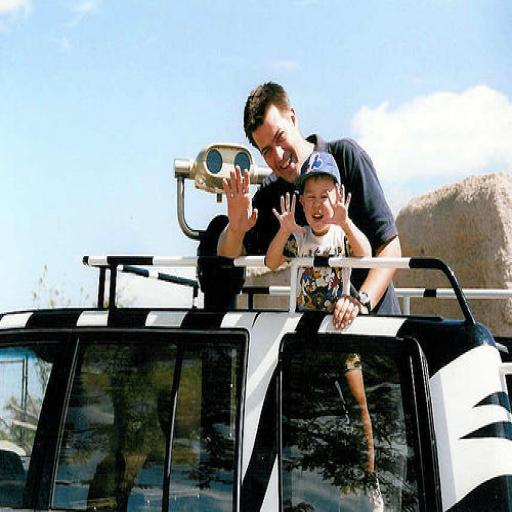car: (0, 254, 511, 510)
person: (215, 81, 403, 320), (264, 150, 383, 510)
